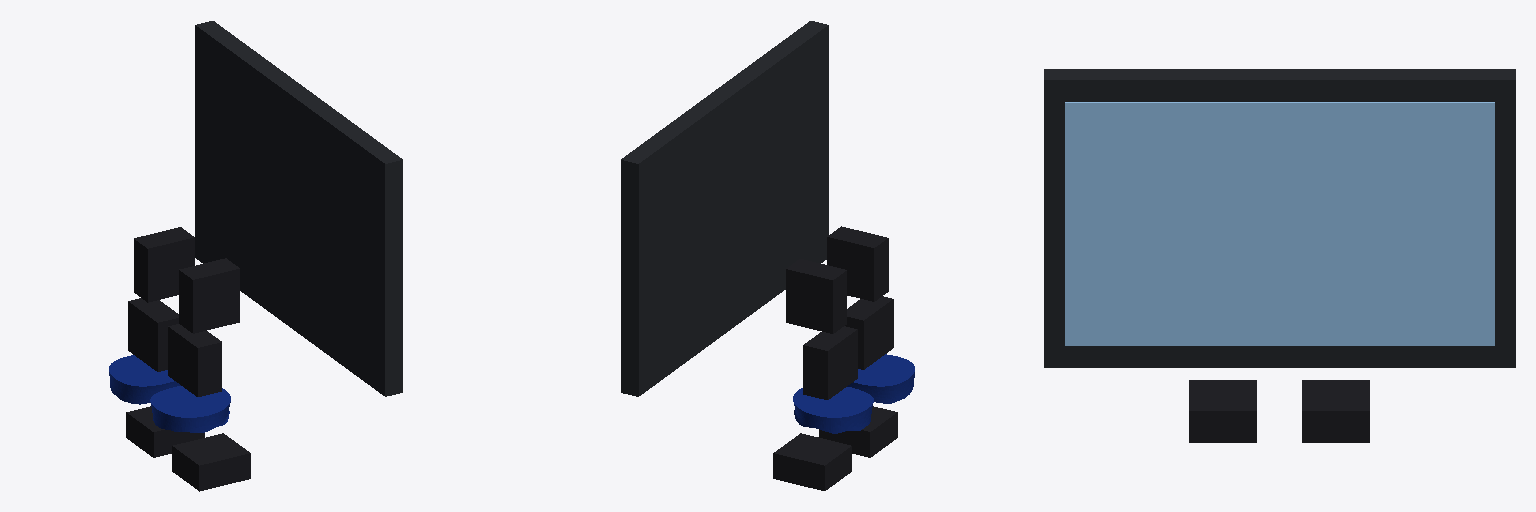
robot.urdf — haetburi:
<?xml version="1.0"?>
<!-- Haetburi biped (v18_scs0009) - generated by tools/build_model.py, do not edit by hand -->
<robot name="haetburi">
  <mujoco>
    <compiler meshdir="." balanceinertia="true" discardvisual="false" strippath="false" fusestatic="false"/>
  </mujoco>
  <material name="display"><color rgba="0.18 0.19 0.21 1"/></material>
  <material name="screen"><color rgba="0.62 0.80 0.95 1"/></material>
  <material name="shell"><color rgba="0.106 0.216 0.541 1"/></material>
  <material name="motor"><color rgba="0.15 0.15 0.17 1"/></material>
  <material name="foot"><color rgba="0.25 0.25 0.28 1"/></material>
  <link name="world"/>
  <joint name="floating_base" type="floating">
    <parent link="world"/><child link="pelvis"/>
    <origin xyz="0 0 0" rpy="0 0 0"/>
  </joint>
  <link name="pelvis">
    <inertial>
      <origin xyz="-0.00857436 -4.04435e-05 0.0386577" rpy="0 0 0"/>
      <mass value="0.198692"/>
      <inertia ixx="0.000107909" ixy="3.56064e-07" ixz="4.08862e-05" iyy="0.000158543" iyz="-1.09835e-07" izz="0.000117088"/>
    </inertial>
    <visual><origin xyz="0 0 0" rpy="0 0 0"/><geometry><mesh filename="meshes/pelvis.stl"/></geometry><material name="shell"/></visual>
    <visual><origin xyz="0.00710197 0.0182963 0.047325" rpy="0 0 0"/><geometry><box size="0.0232 0.0121 0.02525"/></geometry><material name="motor"/></visual>
    <visual><origin xyz="0.00809803 -0.0185221 0.047325" rpy="0 0 0"/><geometry><box size="0.0232 0.0121 0.02525"/></geometry><material name="motor"/></visual>
    <collision><origin xyz="0.0055805 -0.000109329 0.0198256" rpy="0 0 0"/><geometry><box size="0.0669075 0.0888493 0.0384288"/></geometry></collision>
  </link>
  <link name="torso">
    <inertial>
      <origin xyz="0.016319 7.72691e-05 0.0965368" rpy="0 0 0"/>
      <mass value="0.901556"/>
      <inertia ixx="0.00825268" ixy="-2.39545e-05" ixz="0.00150206" iyy="0.00830177" iyz="-2.31104e-05" izz="0.00450975"/>
    </inertial>
    <visual><origin xyz="0 0 0" rpy="0 0 0"/><geometry><mesh filename="meshes/torso.stl"/></geometry><material name="shell"/></visual>
    <visual><origin xyz="0.062786 0 0.0289837" rpy="0 0 0"/><geometry><box size="0.008832 0.161664 0.109286"/></geometry><material name="display"/></visual>
    <visual><origin xyz="0.067202 0 0.0289837" rpy="0 0 0"/><geometry><box size="0.0004 0.147456 0.09216"/></geometry><material name="screen"/></visual>
    <collision><origin xyz="-0.0291512 -1.35704e-06 0.0215066" rpy="0 0 0"/><geometry><box size="0.136832 0.0927821 0.0913706"/></geometry></collision>
    <collision><origin xyz="0.0355968 0.0718681 0.0433374" rpy="0 0 0"/><geometry><sphere radius="0.0519864"/></geometry></collision>
    <collision><origin xyz="0.0358429 -0.0719783 0.0433374" rpy="0 0 0"/><geometry><sphere radius="0.0519364"/></geometry></collision>
    <collision><origin xyz="-0.004468 0.000228497 0.0877353" rpy="0 0 0"/><geometry><sphere radius="0.0891668"/></geometry></collision>
    <collision><origin xyz="-0.00778564 -0.000105052 0.128794" rpy="0 0 0"/><geometry><sphere radius="0.102872"/></geometry></collision>
    <collision><origin xyz="-0.0118553 -0.000173384 0.169861" rpy="0 0 0"/><geometry><sphere radius="0.101681"/></geometry></collision>
    <collision><origin xyz="-0.00930047 0.000732431 0.210925" rpy="0 0 0"/><geometry><sphere radius="0.088415"/></geometry></collision>
    <collision><origin xyz="-0.00550337 0.0057974 0.252014" rpy="0 0 0"/><geometry><sphere radius="0.0630195"/></geometry></collision>
    <collision><origin xyz="-0.0100857 -0.00191617 0.293068" rpy="0 0 0"/><geometry><sphere radius="0.0365721"/></geometry></collision>
    <collision><origin xyz="0.062786 0 0.0289837" rpy="0 0 0"/><geometry><box size="0.008832 0.161664 0.109286"/></geometry></collision>
  </link>
  <link name="leg_l">
    <inertial>
      <origin xyz="-0.000581211 0.00187763 -0.0202969" rpy="0 0 0"/>
      <mass value="0.0233294"/>
      <inertia ixx="5.44756e-06" ixy="8.67922e-09" ixz="8.01104e-08" iyy="4.31822e-06" iyz="1.94904e-08" izz="3.0162e-06"/>
    </inertial>
    <visual><origin xyz="0 0 0" rpy="0 0 0"/><geometry><mesh filename="meshes/leg_l.stl"/></geometry><material name="shell"/></visual>
    <collision><origin xyz="-0.00150042 0.00199416 -0.0160699" rpy="0 0 0"/><geometry><box size="0.0349014 0.0319756 0.0091399"/></geometry></collision>
  </link>
  <link name="hip_l">
    <inertial>
      <origin xyz="0 -0.00169586 0.0166894" rpy="0 0 0"/>
      <mass value="0.0189692"/>
      <inertia ixx="1.30471e-06" ixy="0" ixz="0" iyy="7.60432e-07" iyz="5.41971e-09" izz="8.66384e-07"/>
    </inertial>
    <visual><origin xyz="0 -0.002 0.0171" rpy="0 0 0"/><geometry><box size="0.0121 0.02525 0.0232"/></geometry><material name="motor"/></visual>
  </link>
  <link name="foot_l">
    <inertial>
      <origin xyz="0.000411766 0.00389255 -0.00232073" rpy="0 0 0"/>
      <mass value="0.0454368"/>
      <inertia ixx="5.1883e-06" ixy="-2.3182e-07" ixz="-8.67415e-08" iyy="7.0546e-06" iyz="-5.18059e-07" izz="8.13425e-06"/>
    </inertial>
    <visual><origin xyz="0 0 0" rpy="0 0 0"/><geometry><mesh filename="meshes/foot_l.stl"/></geometry><material name="shell"/></visual>
    <visual><origin xyz="0 0.0056 3.42901e-19" rpy="0 0 0"/><geometry><box size="0.02525 0.0232 0.0121"/></geometry><material name="motor"/></visual>
    <collision><origin xyz="0 0 0" rpy="0 0 0"/><geometry><mesh filename="meshes/foot_l.stl"/></geometry></collision>
  </link>
  <link name="leg_r">
    <inertial>
      <origin xyz="-0.000805774 -0.00236743 -0.0211374" rpy="0 0 0"/>
      <mass value="0.0233788"/>
      <inertia ixx="5.53754e-06" ixy="-1.3023e-08" ixz="1.19495e-07" iyy="4.40797e-06" iyz="-2.03408e-08" izz="3.04513e-06"/>
    </inertial>
    <visual><origin xyz="0 0 0" rpy="0 0 0"/><geometry><mesh filename="meshes/leg_r.stl"/></geometry><material name="shell"/></visual>
    <collision><origin xyz="-0.00249899 -0.00249075 -0.0170113" rpy="0 0 0"/><geometry><box size="0.0348732 0.0320371 0.0090227"/></geometry></collision>
  </link>
  <link name="hip_r">
    <inertial>
      <origin xyz="0 0.00211983 0.0175373" rpy="0 0 0"/>
      <mass value="0.0189692"/>
      <inertia ixx="1.3134e-06" ixy="0" ixz="0" iyy="7.66855e-07" iyz="-9.28376e-09" izz="8.68643e-07"/>
    </inertial>
    <visual><origin xyz="0 0.0025 0.0181" rpy="0 0 0"/><geometry><box size="0.0121 0.02525 0.0232"/></geometry><material name="motor"/></visual>
  </link>
  <link name="foot_r">
    <inertial>
      <origin xyz="0.000349027 -0.0038772 -0.00234477" rpy="0 0 0"/>
      <mass value="0.0453682"/>
      <inertia ixx="5.15499e-06" ixy="2.36972e-07" ixz="-6.72789e-08" iyy="7.01847e-06" iyz="5.15277e-07" izz="8.10368e-06"/>
    </inertial>
    <visual><origin xyz="0 0 0" rpy="0 0 0"/><geometry><mesh filename="meshes/foot_r.stl"/></geometry><material name="shell"/></visual>
    <visual><origin xyz="0 -0.0056 3.42901e-19" rpy="0 0 0"/><geometry><box size="0.02525 0.0232 0.0121"/></geometry><material name="motor"/></visual>
    <collision><origin xyz="0 0 0" rpy="0 0 0"/><geometry><mesh filename="meshes/foot_r.stl"/></geometry></collision>
  </link>
  <joint name="waist_fixed" type="fixed">
    <parent link="pelvis"/><child link="torso"/>
    <origin xyz="0 0 0.03904" rpy="0 0 0"/>
  </joint>
  <joint name="hip_yaw_l" type="revolute">
    <parent link="pelvis"/><child link="hip_l"/>
    <origin xyz="0.00150197 0.0182963 0" rpy="0 0 0"/>
    <axis xyz="0 0 1"/>
    <limit lower="-0.314159" upper="0.314159" effort="0.226" velocity="10.5"/>
    <dynamics damping="0.016142857142857146" friction="0.006457142857142858"/>
  </joint>
  <joint name="hip_pitch_l" type="revolute">
    <parent link="hip_l"/><child link="leg_l"/>
    <origin xyz="0 -0.002 0.0115" rpy="0 0 0"/>
    <axis xyz="0 1 0"/>
    <limit lower="-0.523599" upper="0.436332" effort="0.226" velocity="10.5"/>
    <dynamics damping="0.016142857142857146" friction="0.006457142857142858"/>
  </joint>
  <joint name="hip_yaw_r" type="revolute">
    <parent link="pelvis"/><child link="hip_r"/>
    <origin xyz="0.00249803 -0.0185221 0" rpy="0 0 0"/>
    <axis xyz="0 0 1"/>
    <limit lower="-0.314159" upper="0.314159" effort="0.226" velocity="10.5"/>
    <dynamics damping="0.016142857142857146" friction="0.006457142857142858"/>
  </joint>
  <joint name="hip_pitch_r" type="revolute">
    <parent link="hip_r"/><child link="leg_r"/>
    <origin xyz="0 0.0025 0.0125" rpy="0 0 0"/>
    <axis xyz="0 1 0"/>
    <limit lower="-0.523599" upper="0.436332" effort="0.226" velocity="10.5"/>
    <dynamics damping="0.016142857142857146" friction="0.006457142857142858"/>
  </joint>
  <joint name="ankle_roll_l" type="revolute">
    <parent link="leg_l"/><child link="foot_l"/>
    <origin xyz="0.00686715 -0.00260301 -0.04187" rpy="0 0 0"/>
    <axis xyz="1 0 0"/>
    <limit lower="-0.261799" upper="0.261799" effort="0.226" velocity="10.5"/>
    <dynamics damping="0.016142857142857146" friction="0.006457142857142858"/>
  </joint>
  <joint name="ankle_roll_r" type="revolute">
    <parent link="leg_r"/><child link="foot_r"/>
    <origin xyz="0.00595671 0.00205261 -0.04287" rpy="0 0 0"/>
    <axis xyz="1 0 0"/>
    <limit lower="-0.261799" upper="0.261799" effort="0.226" velocity="10.5"/>
    <dynamics damping="0.016142857142857146" friction="0.006457142857142858"/>
  </joint>
</robot>

--- What the picture shows (computed from the rendered views, not written in the file) ---
The picture shows the robot from 3 angles, left to right: view 1: azimuth 30°, elevation 25°; view 2: azimuth 150°, elevation 25°; view 3: azimuth 270°, elevation 25°; orthographic projection.
Model haetburi with 9 links and 8 joints (6 revolute, 1 fixed, 1 floating), rooted at world, posed every joint at zero.
Links seen in each view (by area): view 1: torso, pelvis, foot_r, hip_r, leg_r, hip_l, leg_l, foot_l; view 2: torso, pelvis, foot_l, hip_l, leg_l, hip_r, leg_r, foot_r; view 3: torso, foot_l, foot_r.
Boxes of the visible links, <box> form: torso: <box>195,21,402,396</box>; pelvis: <box>134,227,239,333</box>; foot_r: <box>172,433,250,491</box>; hip_r: <box>168,324,221,396</box>; leg_r: <box>150,386,230,432</box>; hip_l: <box>128,298,178,371</box>; leg_l: <box>109,355,180,404</box>; foot_l: <box>126,406,204,457</box>; torso: <box>621,21,828,396</box>; pelvis: <box>786,226,888,333</box>; foot_l: <box>773,433,851,490</box>; hip_l: <box>803,326,857,399</box>; leg_l: <box>793,387,873,433</box>; hip_r: <box>845,296,893,369</box>; leg_r: <box>847,354,914,403</box>; foot_r: <box>819,406,897,457</box>; torso: <box>1044,69,1515,367</box>; foot_l: <box>1302,380,1369,442</box>; foot_r: <box>1189,380,1256,442</box>.
Bounding box of the posed robot: 0.0849 × 0.1617 × 0.1591 m (x, y, z).
Meshes: 6 distinct files referenced, 2 mesh visuals loaded (2 binary STL); not drawn: 4 (reference not matched to a file when rendering).
